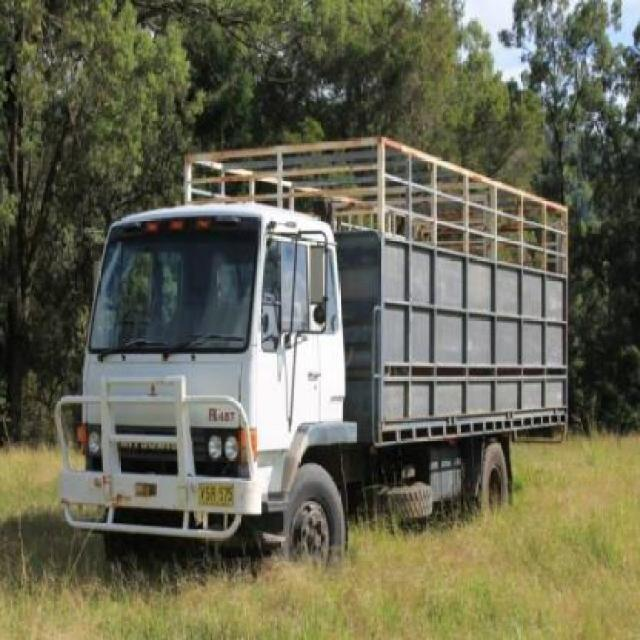truck: (56, 136, 570, 573)
